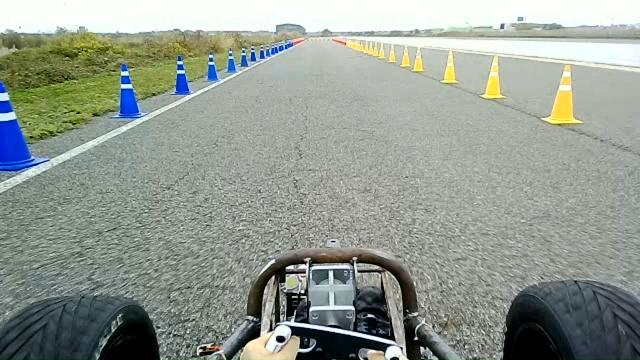blue cone: (110, 63, 147, 119), (170, 55, 192, 95), (205, 49, 220, 82), (224, 47, 238, 73), (240, 47, 250, 67), (249, 45, 257, 61), (258, 45, 266, 59)
yellow cone: (541, 63, 583, 125), (479, 55, 506, 99), (440, 49, 459, 84), (411, 46, 425, 72), (400, 44, 410, 67), (387, 44, 397, 62), (377, 42, 386, 59), (366, 41, 374, 55)
